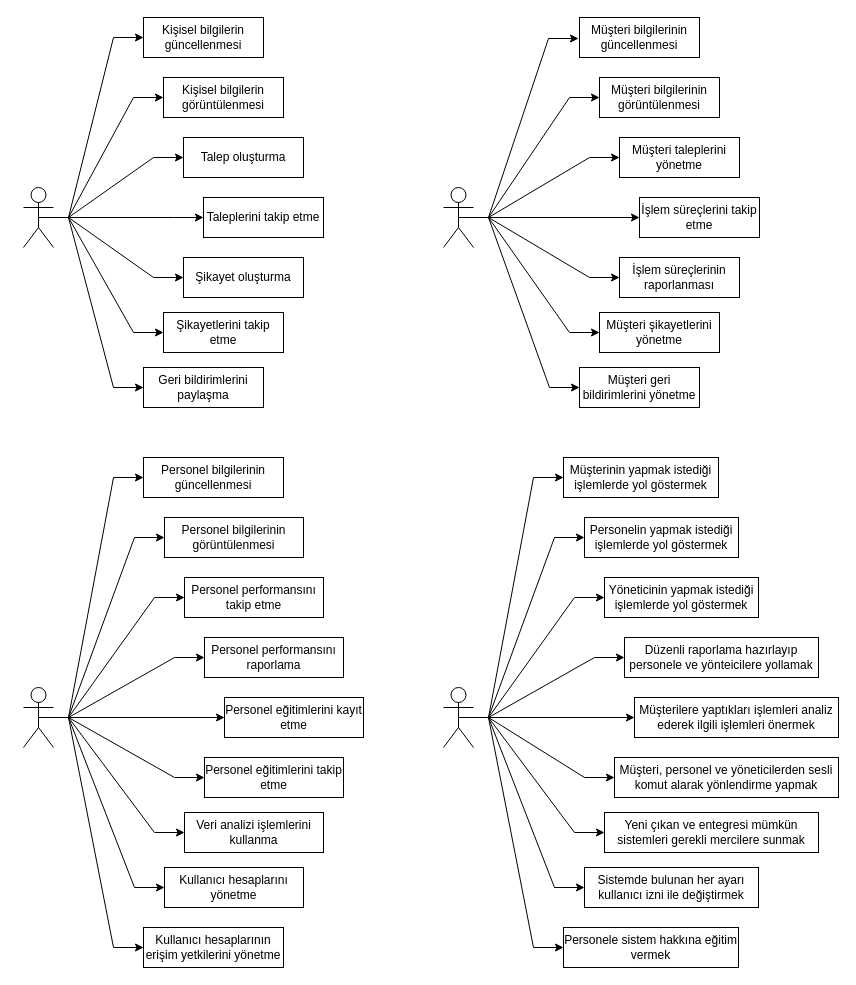
Some shapes in this 856 by 985 pixel diagram are drawn without their labels. The centre of each missing label's shape, as x and y in pixels:
"Müşteri" goes at [38,217].
"Personel" goes at [458,217].
"Yapay Zeka" goes at [458,717].
"Yönetici" goes at [38,717].
